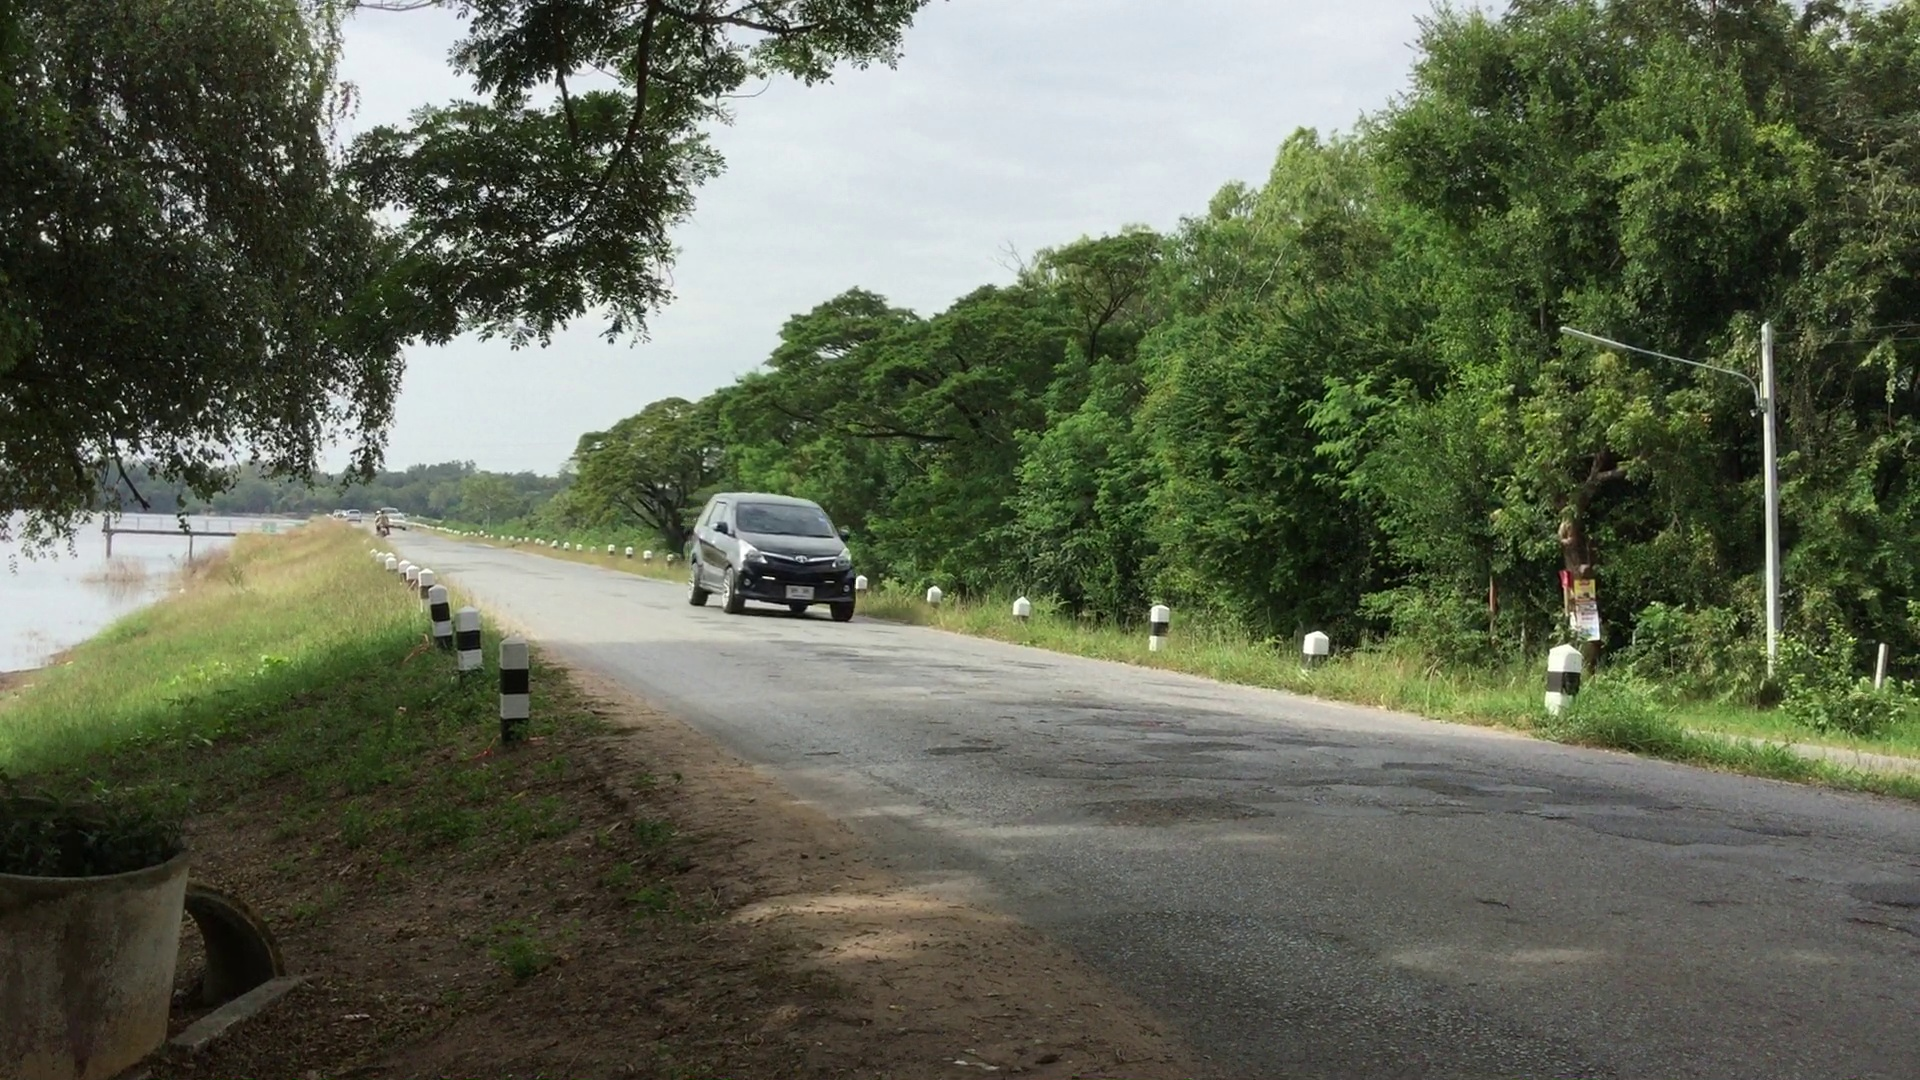car: (688, 489, 860, 625)
post: (497, 632, 533, 733), (1545, 645, 1584, 715), (452, 604, 487, 673), (426, 583, 454, 657), (1145, 605, 1174, 657), (1305, 632, 1328, 669), (1013, 595, 1029, 622)
